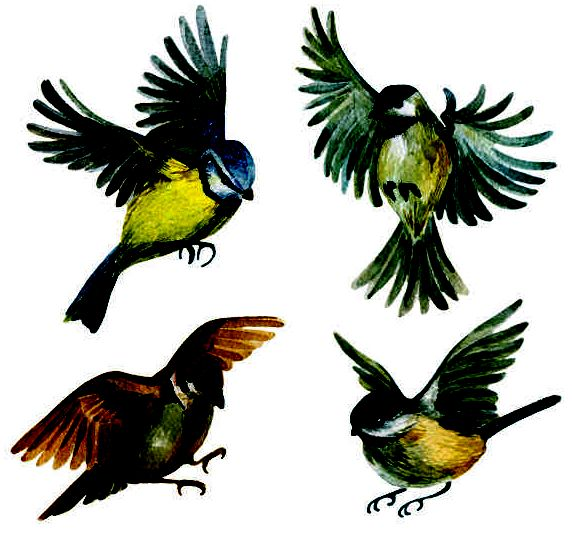Bird: (293, 2, 559, 324), (19, 1, 259, 337), (6, 310, 289, 520), (327, 296, 565, 520)
